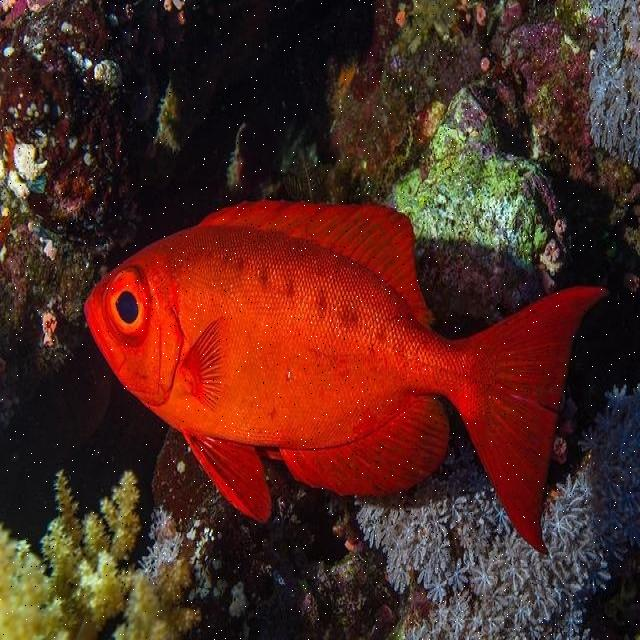fish: (84, 198, 608, 556)
